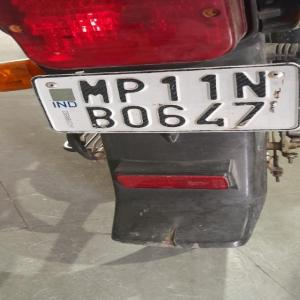Plate: (43, 63, 293, 131)
